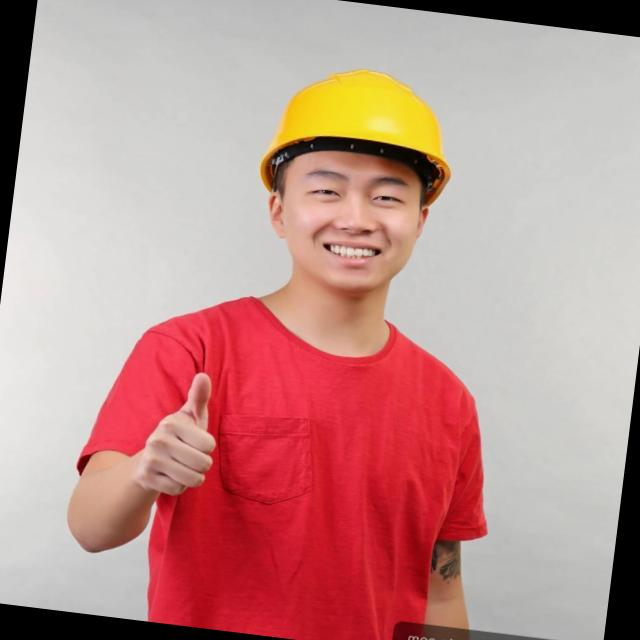helmet: (247, 58, 472, 220)
no-goggles: (278, 168, 420, 220)
no-vest: (70, 268, 503, 640)
